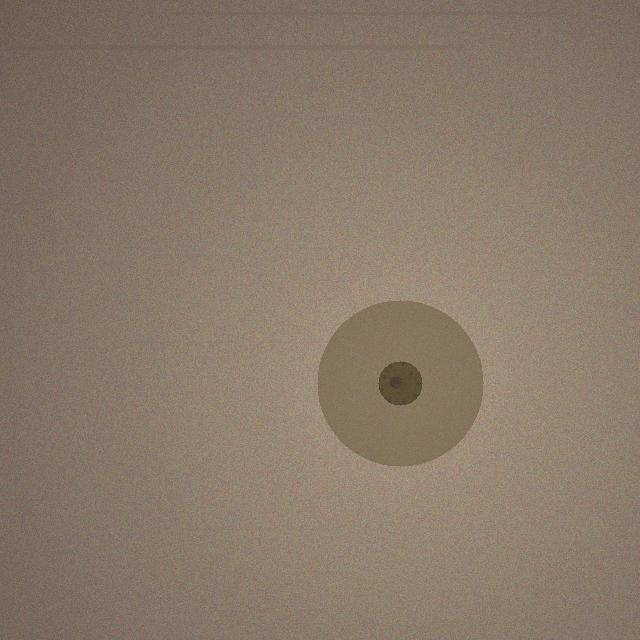cold_weld: (317, 300, 483, 466)
